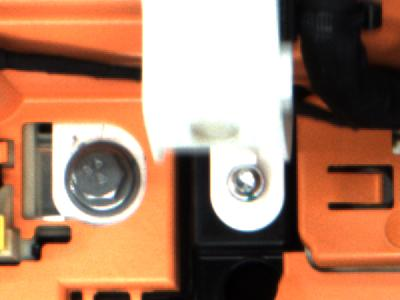nut_b: (58, 140, 148, 218)
